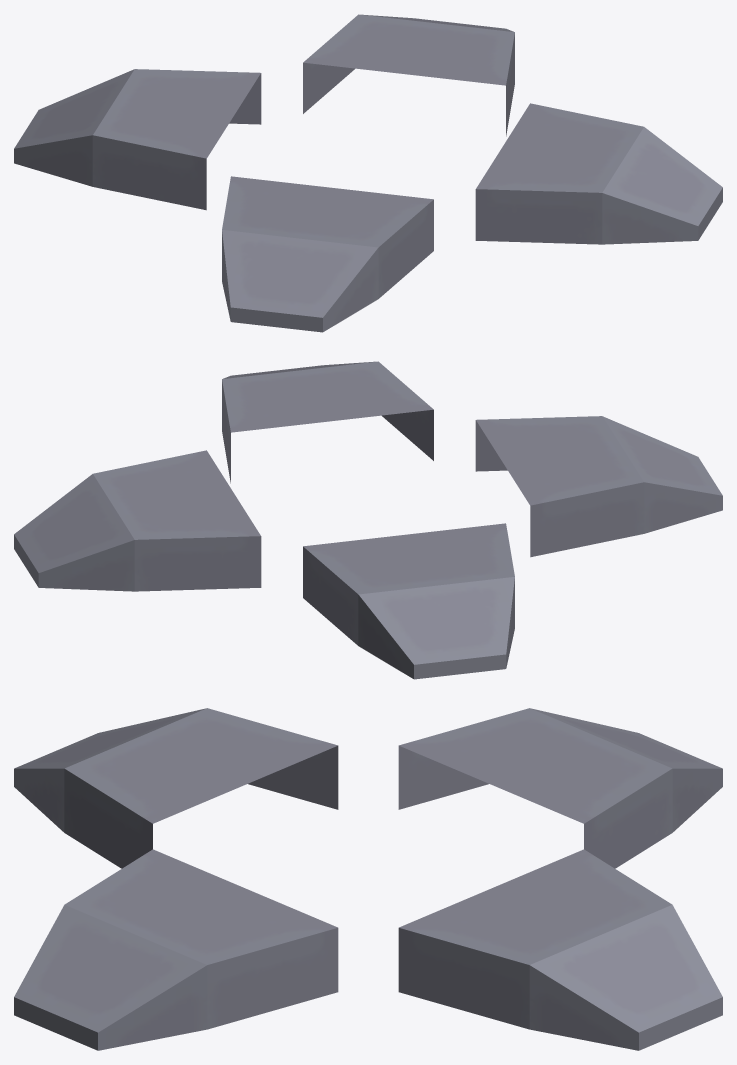
The model's file is Pfb_Soda_Instruments__10.fbx.
The picture shows the model from 3 angles, top to bottom: view 1: azimuth 30°, elevation 25°; view 2: azimuth 150°, elevation 25°; view 3: azimuth 270°, elevation 25°; orthographic projection. The views are drawn at different scales.
Parts seen in each view (by area): view 1: MAT_Soda_Instruments; view 2: MAT_Soda_Instruments; view 3: MAT_Soda_Instruments.
Part boxes in pixels (left/top/right/bottom): MAT_Soda_Instruments: left=14, top=14, right=722, bottom=332; MAT_Soda_Instruments: left=14, top=361, right=722, bottom=679; MAT_Soda_Instruments: left=14, top=708, right=722, bottom=1050.
Bounding box in the file's own units: 1.08 × 0.1082 × 1.08.
Materials: 1 (1 with a texture image).
